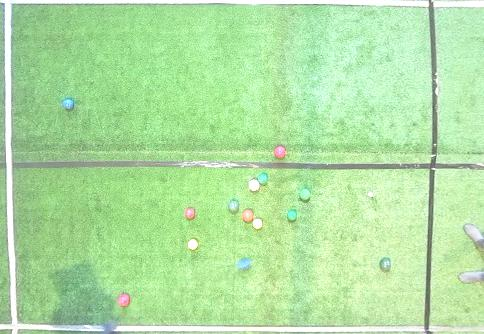blue: (237, 259, 251, 271), (62, 98, 73, 109)
green: (299, 188, 311, 200), (380, 258, 391, 270), (258, 173, 268, 184), (228, 200, 238, 211), (287, 210, 297, 221)
red: (274, 146, 286, 158), (248, 179, 260, 191), (118, 294, 130, 306), (242, 210, 254, 221), (185, 208, 195, 219)
vline: (424, 1, 484, 333), (0, 1, 22, 333)
white: (368, 192, 374, 197)
yellow: (188, 239, 198, 249), (253, 219, 262, 229)
